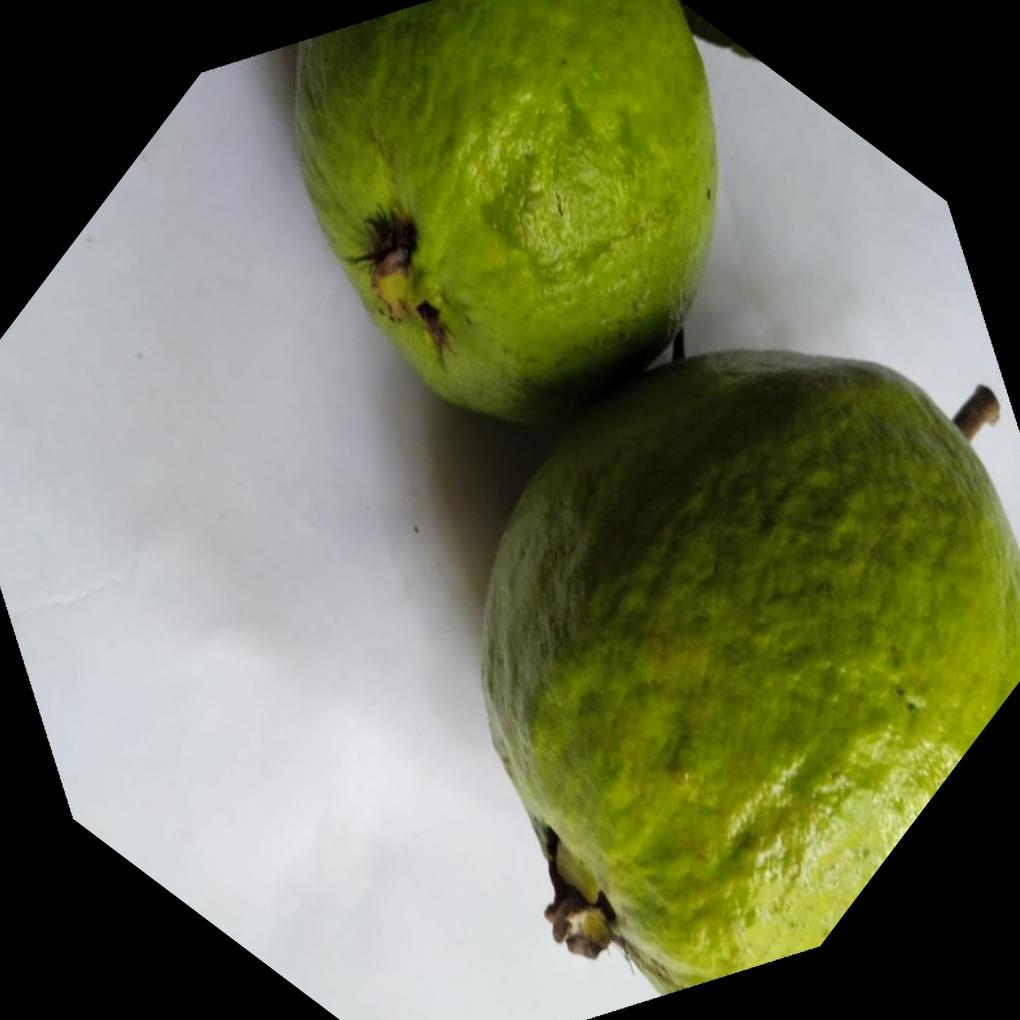FreshGuava: (293, 0, 1020, 998), (293, 0, 963, 735)
